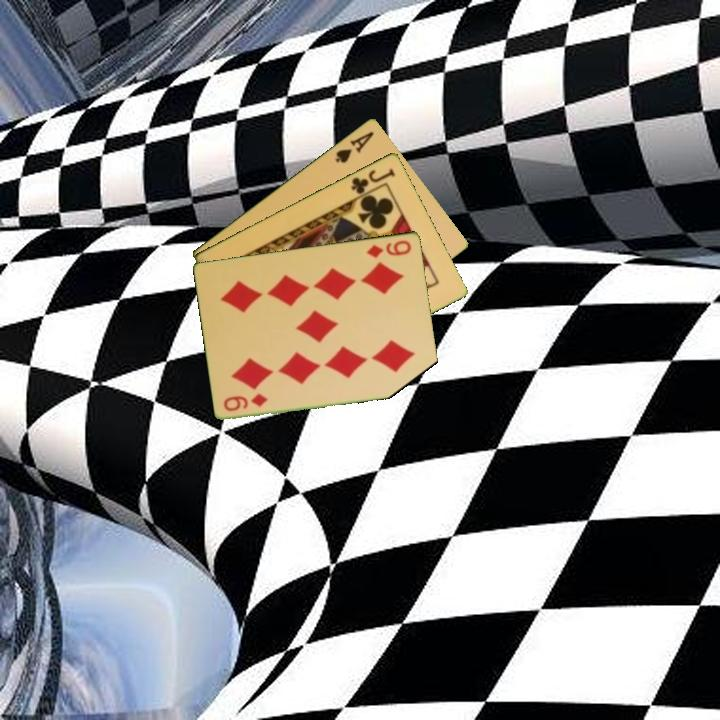9d: (363, 236, 414, 260), (220, 390, 271, 414)
As: (331, 127, 377, 166)
Jc: (347, 164, 398, 197)
